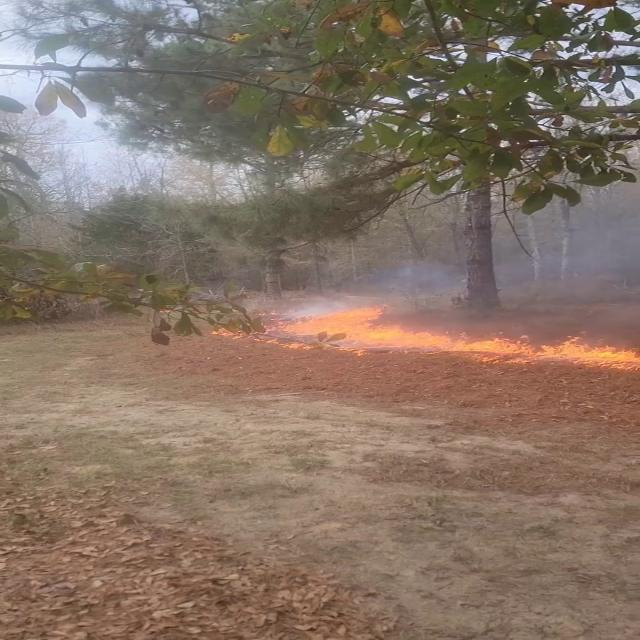Fire: (264, 300, 638, 360)
Smoke: (306, 176, 640, 314), (22, 96, 254, 204)
